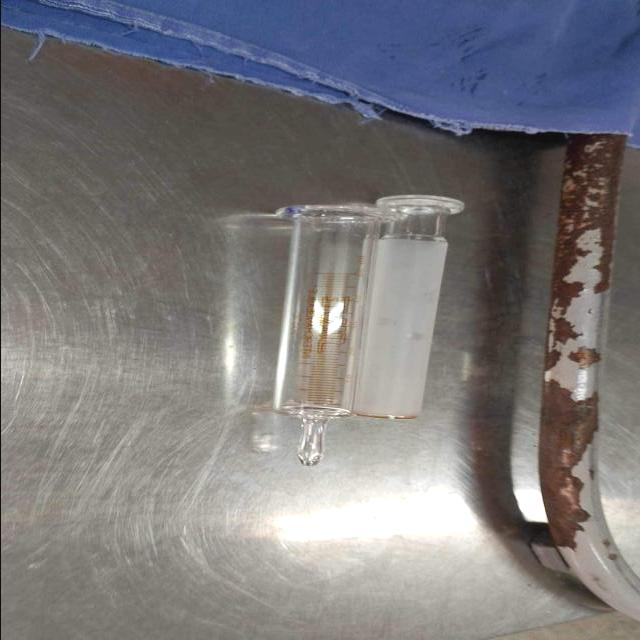General: (2, 2, 640, 148), (265, 192, 466, 469)
Sharps: (352, 194, 465, 422)
